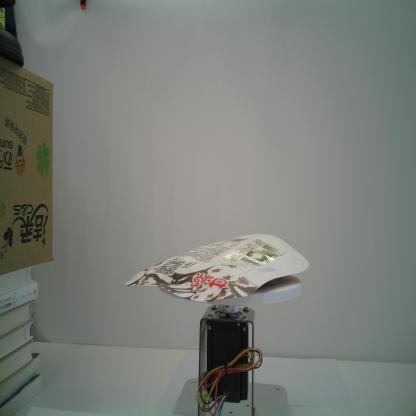Dried Fruit: (125, 232, 310, 304)
